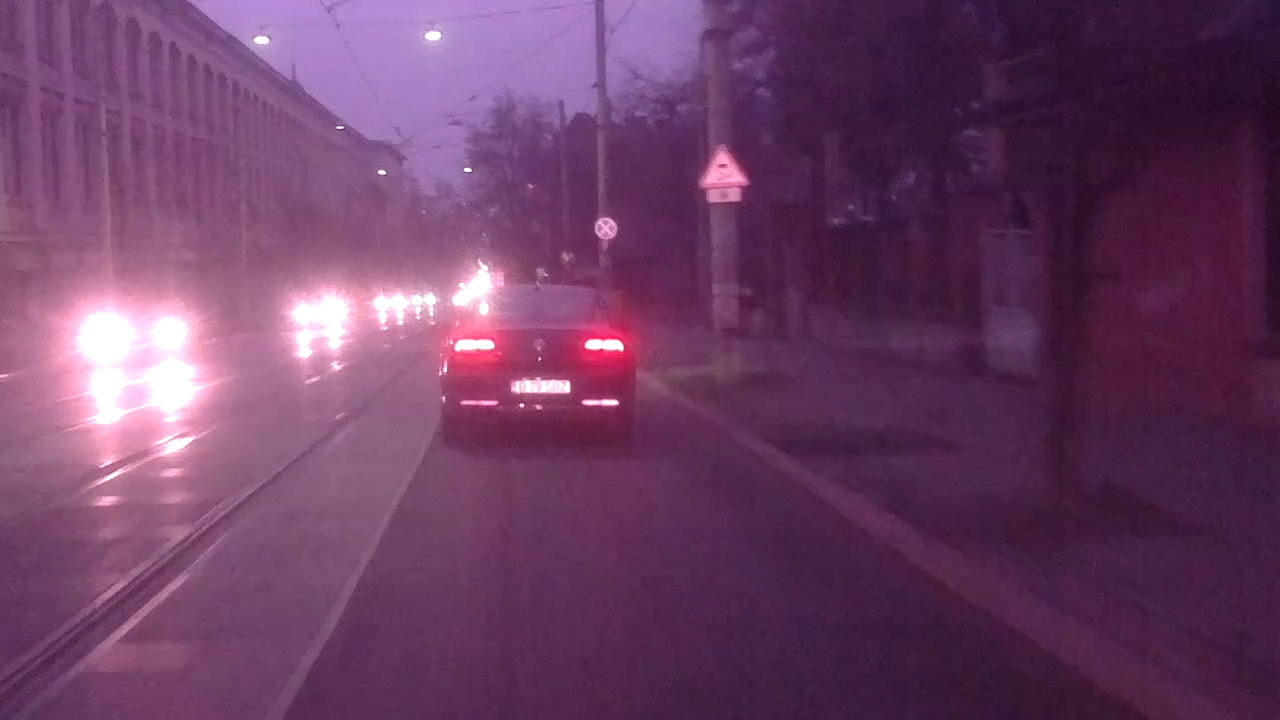license-plate: (506, 376, 573, 395)
